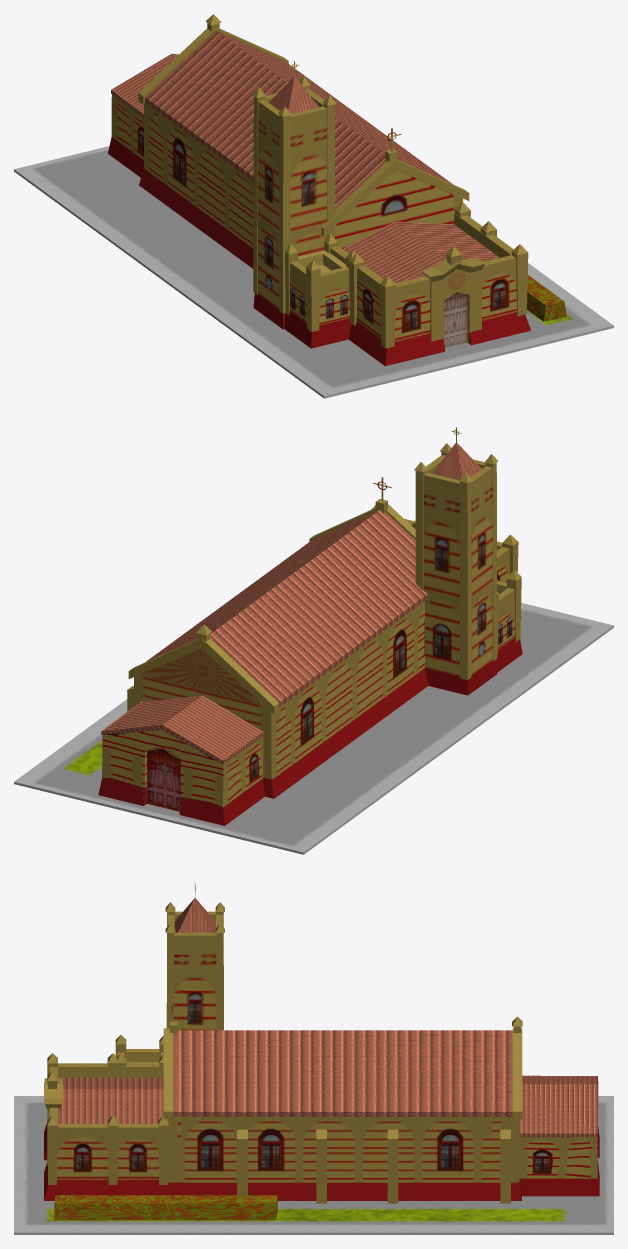
Rendered from igreja nossa senhoraLOD2.fbx.
3 views of the same model, one above another, from view 1: azimuth 30°, elevation 25°; view 2: azimuth 150°, elevation 25°; view 3: azimuth 270°, elevation 25° (orthographic). The views are drawn at different scales.
Parts seen in each view (by area): view 1: IgrejaNossaSenhoraLOD2; view 2: IgrejaNossaSenhoraLOD2; view 3: IgrejaNossaSenhoraLOD2.
Boxes of the visible parts, bbox=[...] form: IgrejaNossaSenhoraLOD2: bbox=[14, 14, 613, 398]; IgrejaNossaSenhoraLOD2: bbox=[14, 427, 613, 854]; IgrejaNossaSenhoraLOD2: bbox=[14, 883, 613, 1234].
Bounding box in the file's own units: 1629 × 1363 × 3022.
